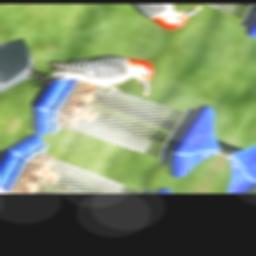Woodpecker: (19, 28, 168, 129)
